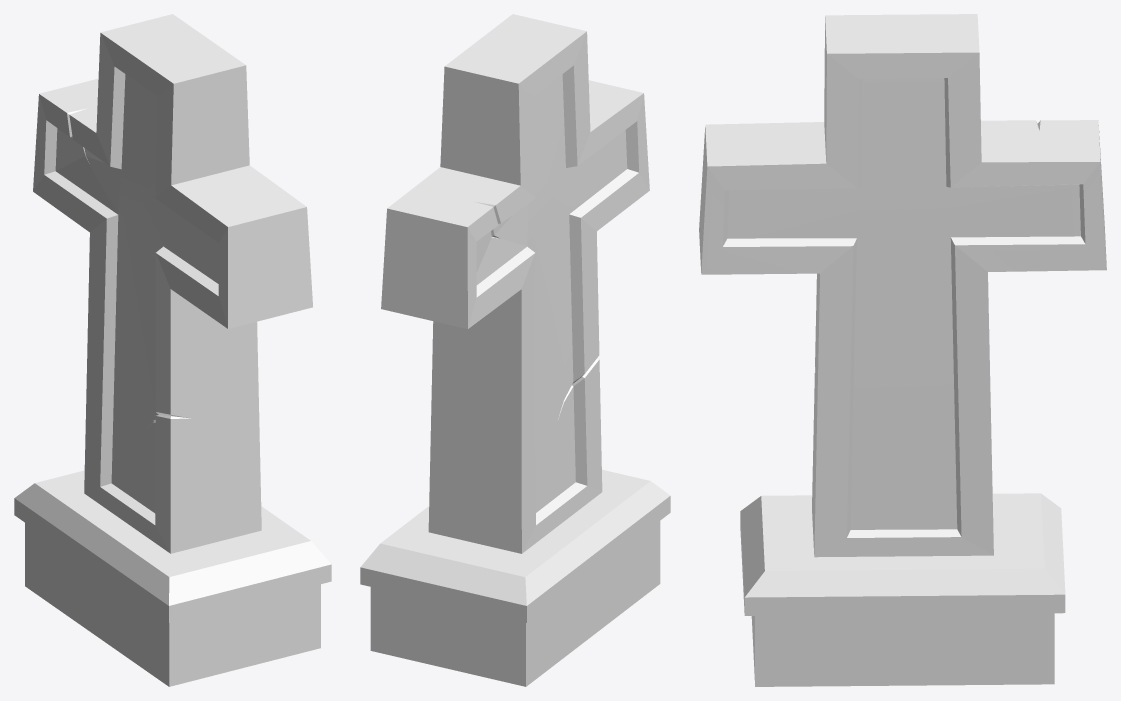
Rendered from gravestone_2.fbx.
3 renders of one model, left to right at view 1: azimuth 30°, elevation 25°; view 2: azimuth 150°, elevation 25°; view 3: azimuth 270°, elevation 25°, orthographic. The views are drawn at different scales.
Parts seen in each view (by area): view 1: Gravestone_A; view 2: Gravestone_A; view 3: Gravestone_A.
Boxes of the visible parts, left/top/right/bottom form: Gravestone_A: left=14, top=14, right=331, bottom=686; Gravestone_A: left=360, top=14, right=670, bottom=686; Gravestone_A: left=699, top=14, right=1106, bottom=686.
Bounding box in the file's own units: 11.22 × 35.87 × 21.69.
